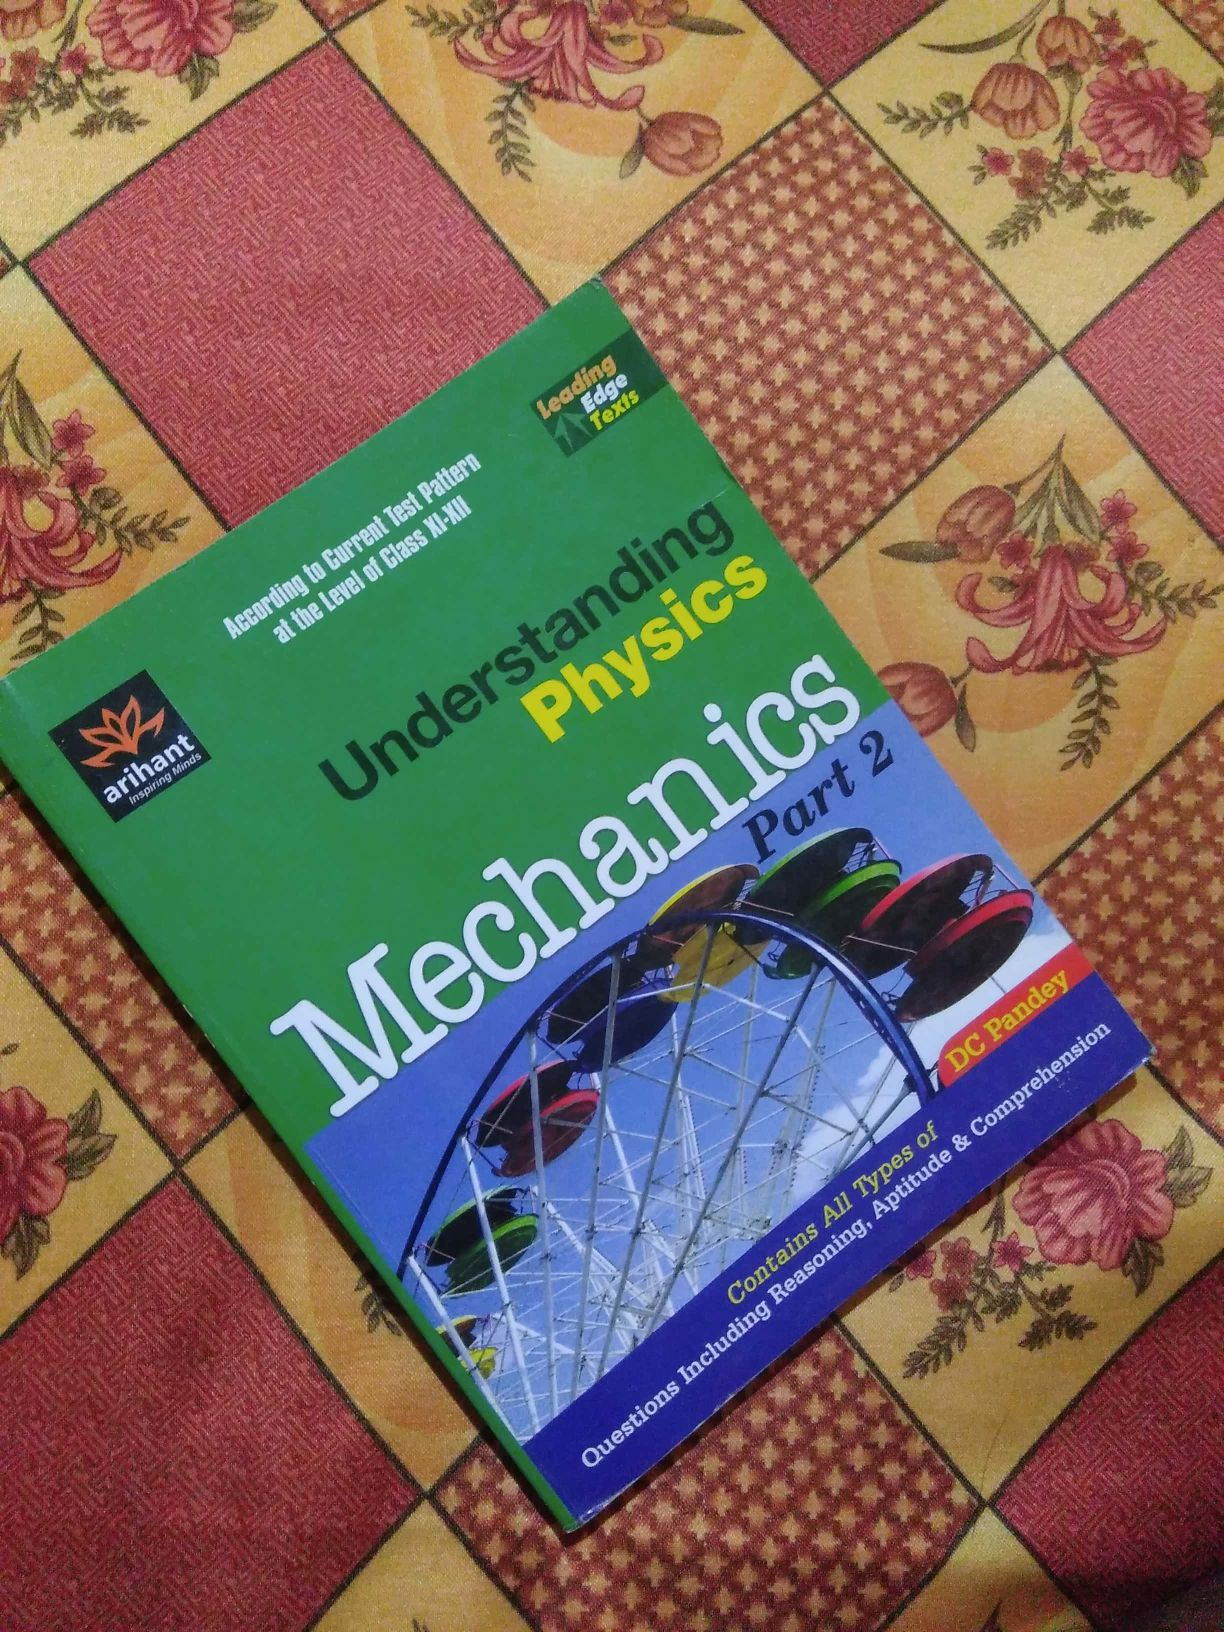mechanics: (15, 332, 1158, 1532)
